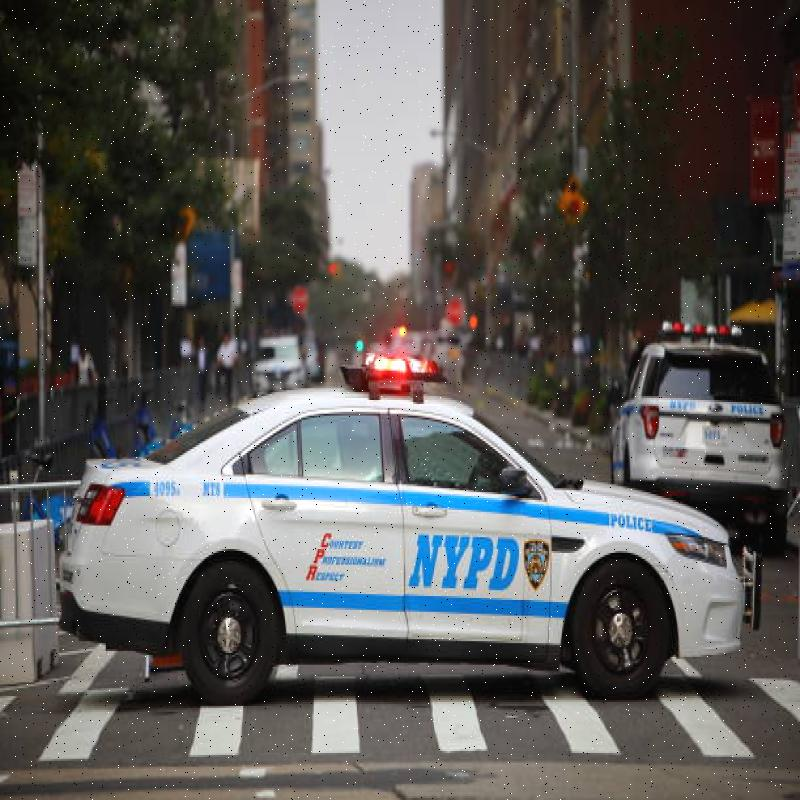AmbulanceSiren: (340, 340, 442, 400)
